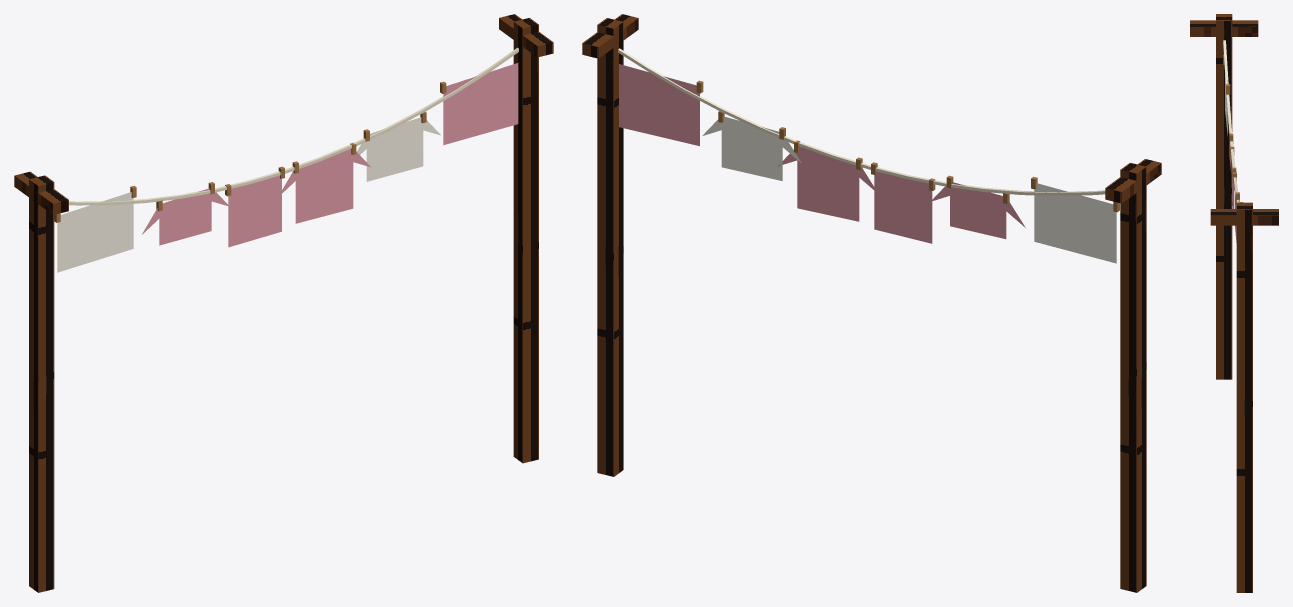
The model's file is scene_laundry_0.glb.
3 renders of one model, left to right at view 1: azimuth 30°, elevation 25°; view 2: azimuth 150°, elevation 25°; view 3: azimuth 270°, elevation 25°, orthographic. The views are drawn at different scales.
Parts seen in each view (by area): view 1: scene_laundry_0; view 2: scene_laundry_0; view 3: scene_laundry_0.
Boxes of the visible parts, x1,y1,x2,y2 form: scene_laundry_0: (14, 14, 553, 592); scene_laundry_0: (582, 14, 1161, 592); scene_laundry_0: (1190, 14, 1278, 592).
Size of the model in its own units: 3.82 by 3.1 by 0.65.
2 materials, 1 textured.
